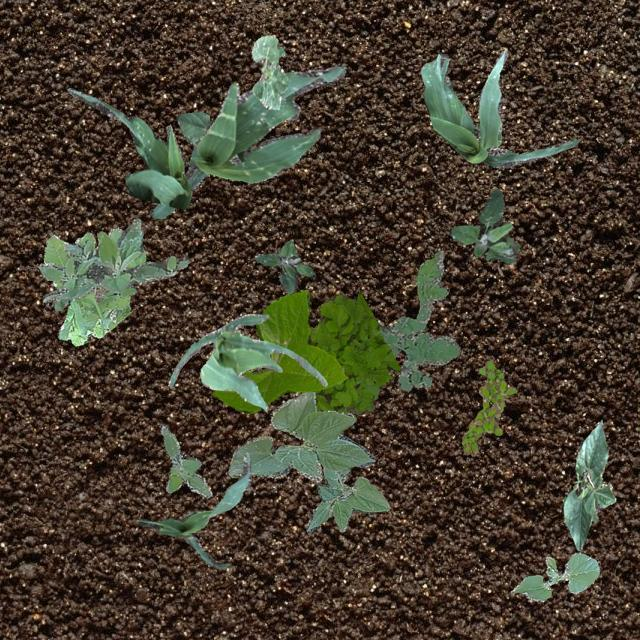crop: (150, 64, 343, 218), (420, 48, 580, 166), (212, 288, 346, 412), (168, 312, 326, 410), (66, 86, 190, 208), (226, 391, 374, 482), (136, 452, 250, 568), (562, 420, 614, 550), (304, 464, 388, 532), (511, 552, 598, 600), (250, 34, 286, 108), (176, 110, 212, 146)
weed: (38, 218, 188, 310), (42, 228, 144, 344), (378, 250, 460, 390), (308, 293, 399, 413), (448, 188, 520, 262), (461, 360, 516, 456), (160, 424, 210, 496), (254, 240, 314, 292)
